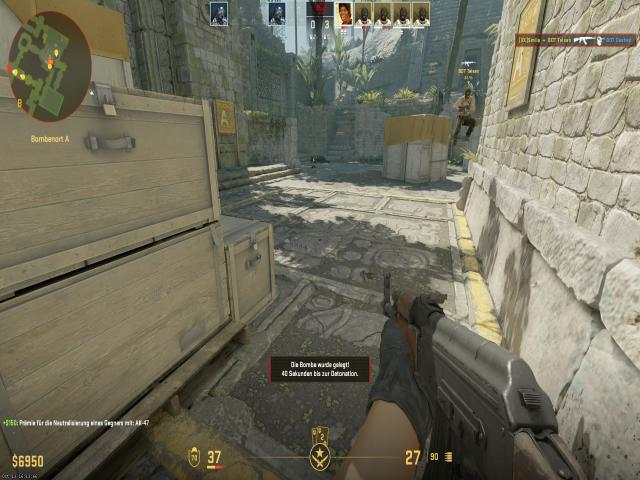Bomb: (354, 266, 380, 288)
Dead: (306, 152, 331, 167)
T: (455, 81, 476, 147)
T-Head: (461, 86, 474, 102)
